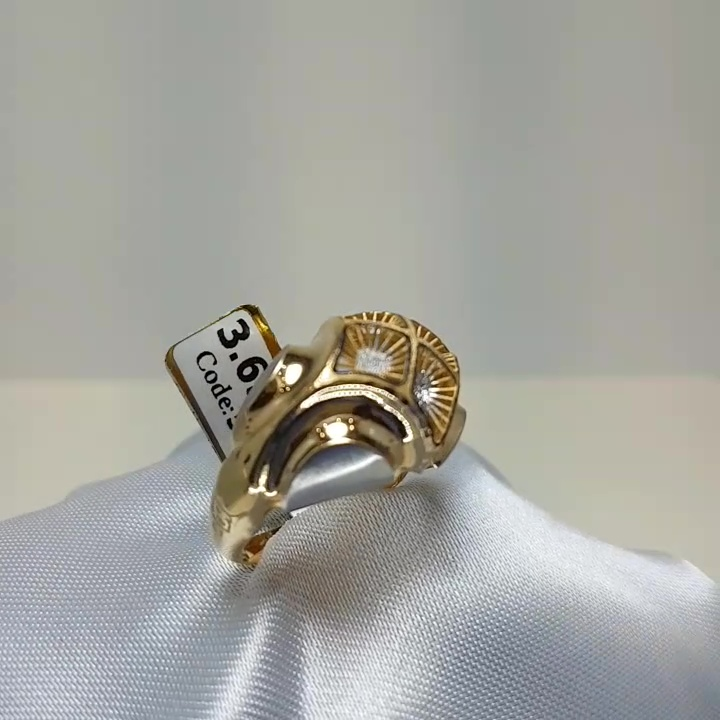Ring 2: (136, 288, 475, 584)
